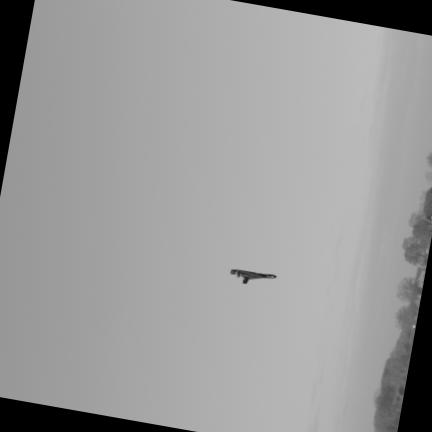Shahed: (231, 269, 275, 283)
